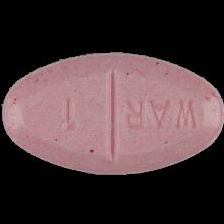21695-672: (0, 0, 224, 224)
